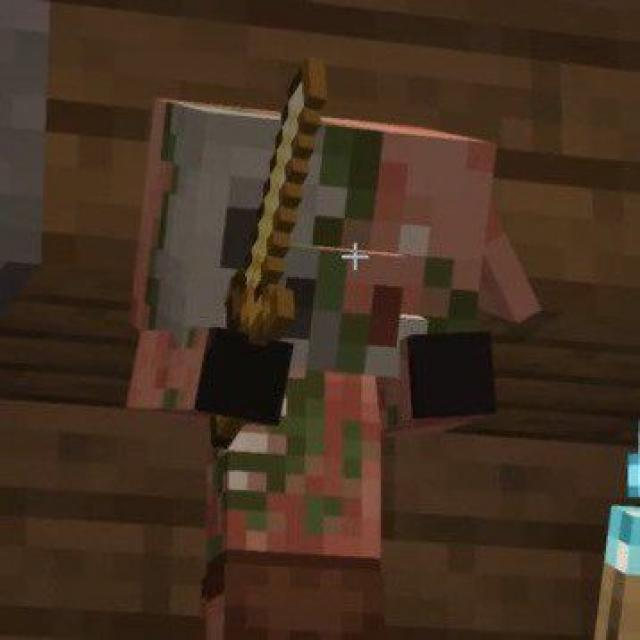Zombified Piglin: (125, 53, 541, 640)
